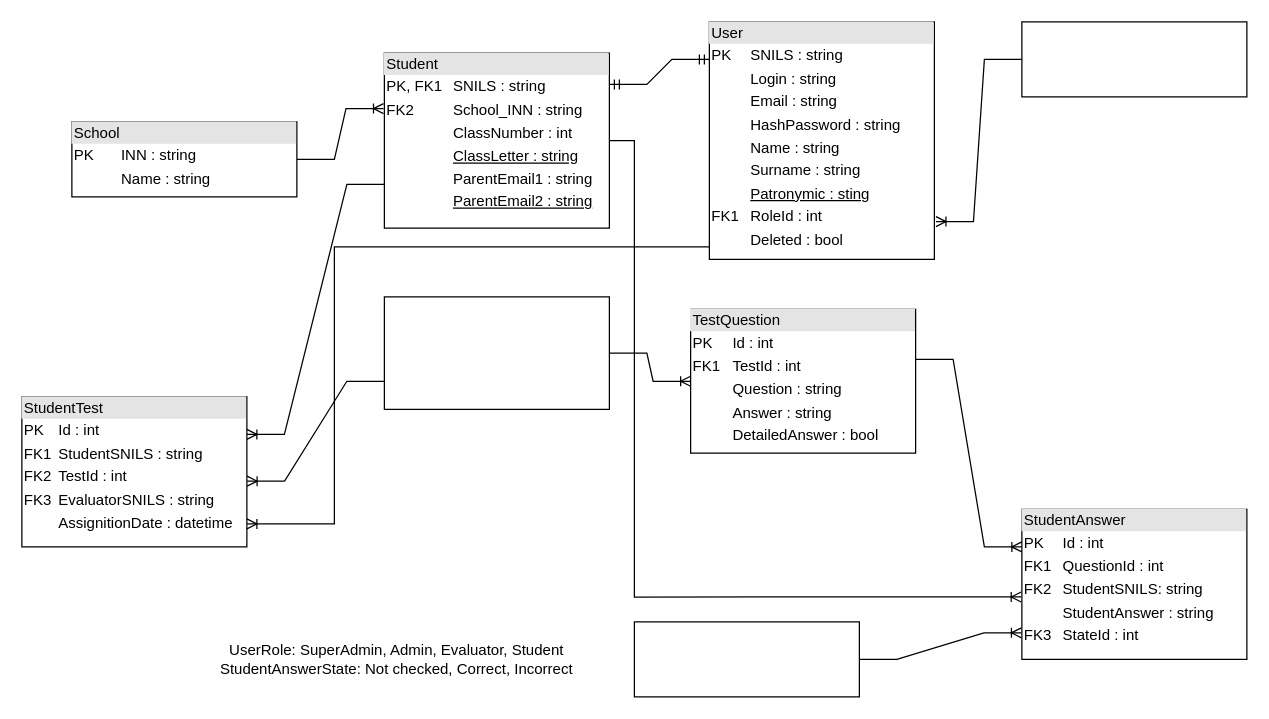
Image size: 1269x719. Some labels were removed from this diagram. The box of each missing label's shape, as (x1, y1, x2, y2) in pixels:
StudentAnswerState PK Id : int Name : string: (633, 621, 859, 697)
Test PK Id : int Name : string CreationDate : datetime Deleted: bool: (383, 296, 609, 409)
UserRole PK Id : int Name : string: (1021, 21, 1247, 97)
